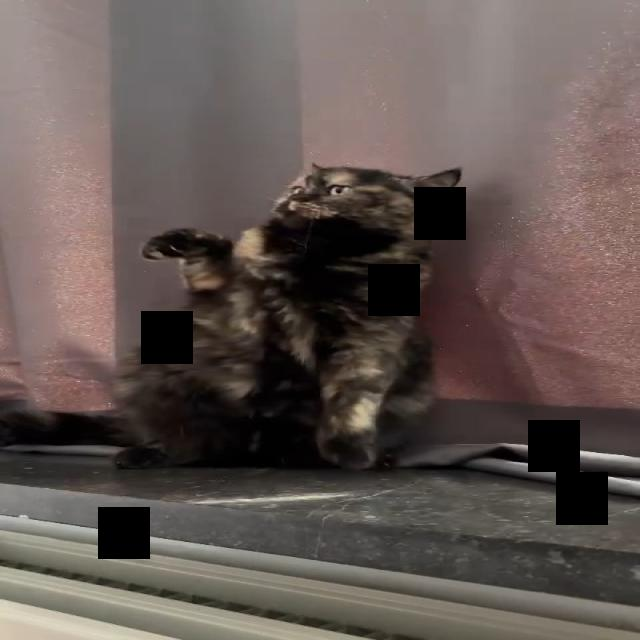authorized: (2, 161, 462, 471)
